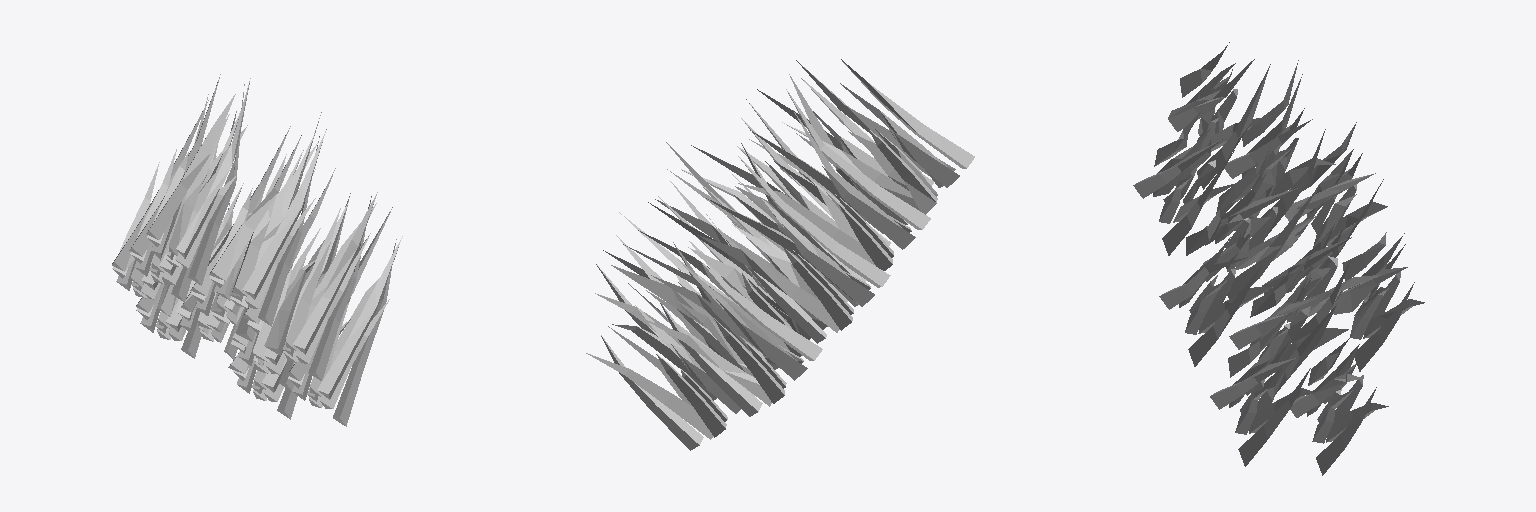
File: Village.obj
The picture shows the model from 3 angles: view 1: azimuth 30°, elevation 25°; view 2: azimuth 150°, elevation 25°; view 3: azimuth 270°, elevation 25°; orthographic projection.
Parts seen in each view (by area): view 1: GrassMedium; view 2: GrassMedium; view 3: GrassMedium.
Boxes of the visible parts, <box> form: GrassMedium: <box>112,74,402,426</box>; GrassMedium: <box>586,59,974,450</box>; GrassMedium: <box>1133,42,1424,475</box>.
Size of the model in its own units: 0.524 by 0.6141 by 0.4237.